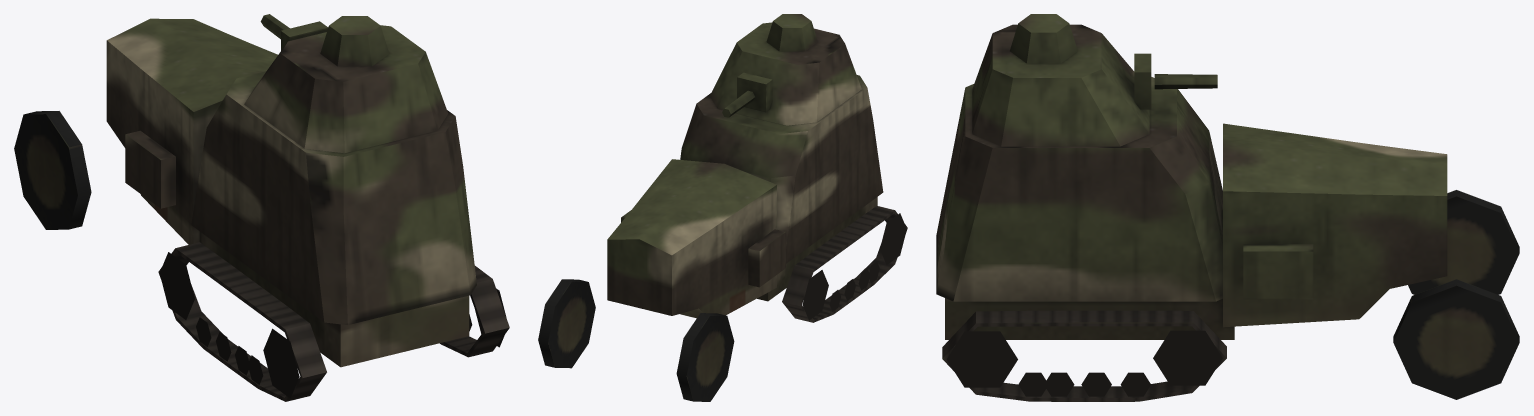
The picture shows the model from 3 angles, left to right: view 1: azimuth 30°, elevation 25°; view 2: azimuth 150°, elevation 25°; view 3: azimuth 270°, elevation 25°; orthographic projection. The views are drawn at different scales.
Visible parts, largest first — view 1: Chassis, Tourelle_01, Roue_Gauche_01, Chenille_Gauche_01, Chenille_Droite_01, Roue_G6, Roue_G1, Axe_Canon_01; view 2: Chassis, Tourelle_01, Roue_Droite_01, Roue_Gauche_01, Chenille_Gauche_01, Axe_Canon_01, Roue_G6, Roue_G1, Canon_01; view 3: Chassis, Tourelle_01, Roue_Droite_01, Chenille_Droite_01, Roue_Gauche_01, Roue_D6, Roue_D1, Axe_Canon_01, Canon_01, Roue_D2, Roue_D3, Roue_D4 (+1 smaller).
Part boxes in pixels (left/top/right/bottom): Chassis: left=106, top=18, right=476, bottom=367; Tourelle_01: left=244, top=16, right=448, bottom=153; Roue_Gauche_01: left=14, top=111, right=91, bottom=229; Chenille_Gauche_01: left=158, top=242, right=326, bottom=401; Chenille_Droite_01: left=440, top=265, right=509, bottom=357; Roue_G6: left=263, top=328, right=299, bottom=398; Roue_G1: left=159, top=252, right=194, bottom=319; Axe_Canon_01: left=281, top=21, right=328, bottom=50; Chassis: left=607, top=75, right=883, bottom=318; Tourelle_01: left=709, top=14, right=861, bottom=125; Roue_Droite_01: left=538, top=279, right=595, bottom=368; Roue_Gauche_01: left=676, top=313, right=734, bottom=401; Chenille_Gauche_01: left=782, top=206, right=907, bottom=322; Axe_Canon_01: left=737, top=72, right=772, bottom=112; Roue_G6: left=880, top=213, right=906, bottom=264; Roue_G1: left=802, top=270, right=828, bottom=320; Canon_01: left=722, top=90, right=754, bottom=117; Chassis: left=936, top=77, right=1447, bottom=339; Tourelle_01: left=972, top=14, right=1149, bottom=146; Roue_Droite_01: left=1393, top=279, right=1519, bottom=399; Chenille_Droite_01: left=942, top=310, right=1226, bottom=401; Roue_Gauche_01: left=1408, top=190, right=1519, bottom=294; Roue_D6: left=946, top=331, right=1017, bottom=387; Roue_D1: left=1153, top=330, right=1222, bottom=385; Axe_Canon_01: left=1134, top=53, right=1151, bottom=109; Canon_01: left=1154, top=74, right=1217, bottom=89; Roue_D2: left=1120, top=372, right=1150, bottom=396; Roue_D3: left=1081, top=372, right=1111, bottom=396; Roue_D4: left=1044, top=372, right=1074, bottom=396.
Size of the model in its own units: 140 by 342 by 213.
Materials: 1 (1 with a texture image).
